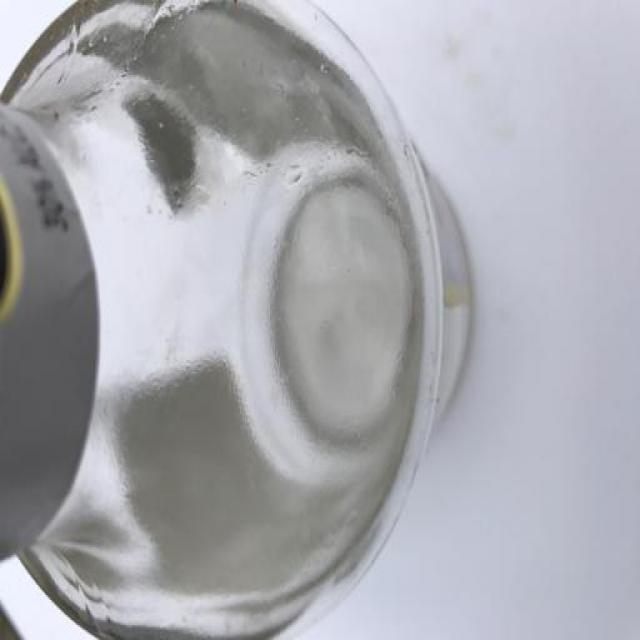glass: (1, 1, 590, 640)
